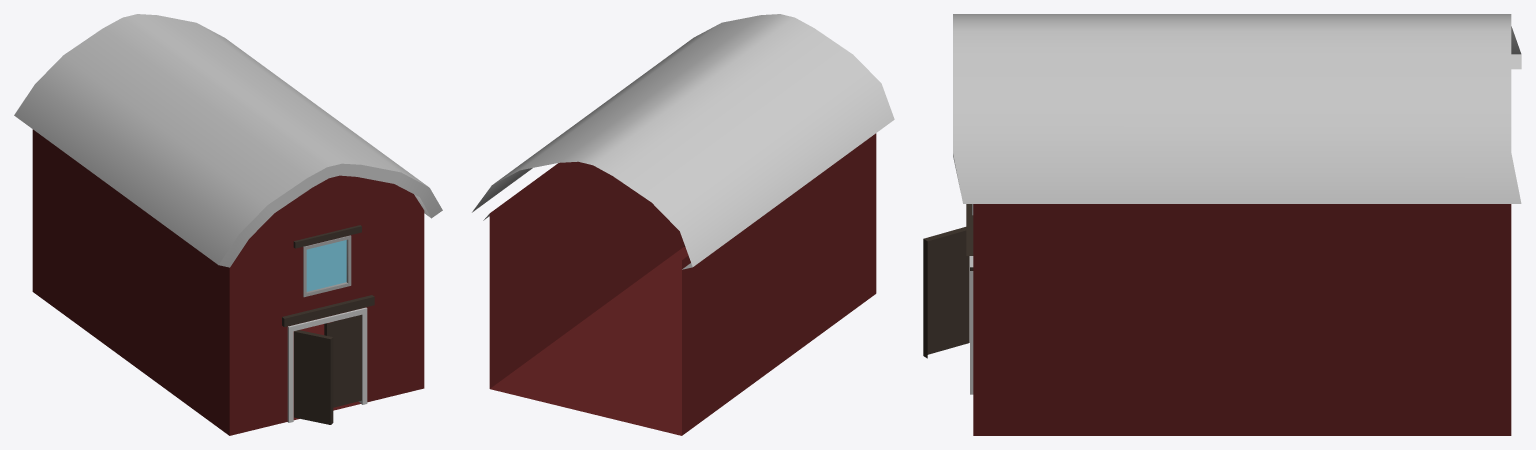
Rendered from barn.fbx.
3 renders of one model, left to right at view 1: azimuth 30°, elevation 25°; view 2: azimuth 150°, elevation 25°; view 3: azimuth 270°, elevation 25°, orthographic. The views are drawn at different scales.
Parts seen in each view (by area): view 1: BarnBase, BarnDoor2, BarnDoor1, Glass, DoorFrame, Extra1, WindowFrame, pCube9; view 2: BarnBase; view 3: BarnBase, BarnDoor2.
Part boxes in pixels (x1,y1,x2,y2): BarnBase: [14, 14, 442, 435]; BarnDoor2: [294, 330, 333, 424]; BarnDoor1: [324, 314, 361, 407]; Glass: [306, 240, 346, 291]; DoorFrame: [287, 307, 367, 422]; Extra1: [282, 295, 374, 326]; WindowFrame: [303, 235, 351, 297]; pCube9: [293, 225, 361, 248]; BarnBase: [472, 14, 894, 435]; BarnBase: [953, 14, 1521, 435]; BarnDoor2: [923, 227, 969, 358].
Bounding box in the file's own units: 7.17 × 7.71 × 12.12.
